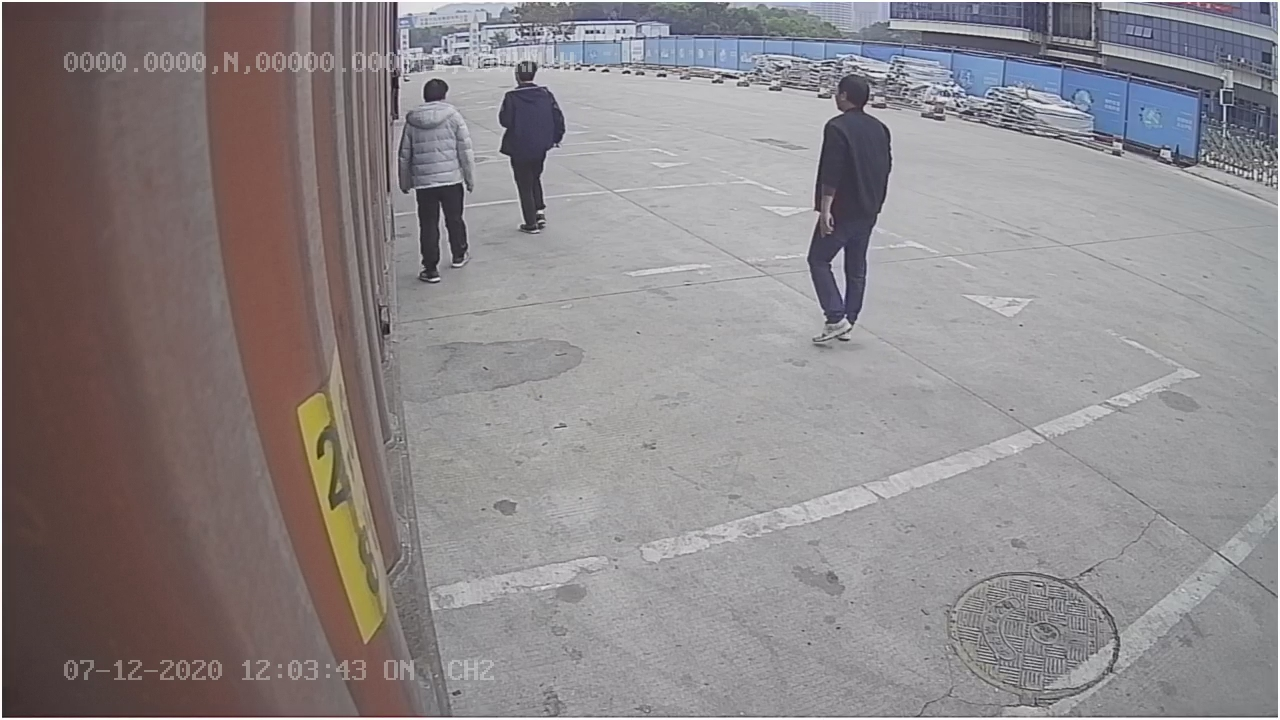person: (807, 71, 901, 348)
